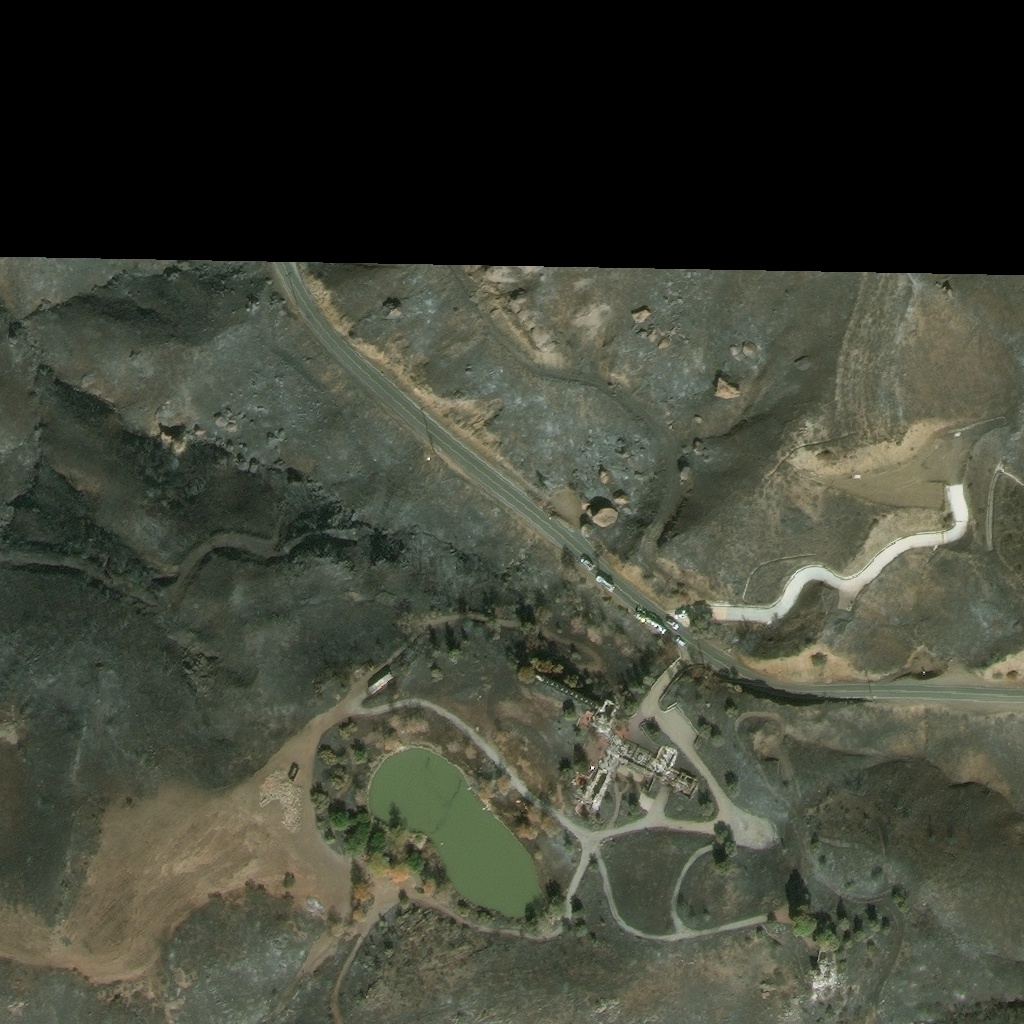1 minor-damage: (366, 670, 395, 696)
3 destroyed: (540, 677, 699, 810), (810, 966, 832, 987)
